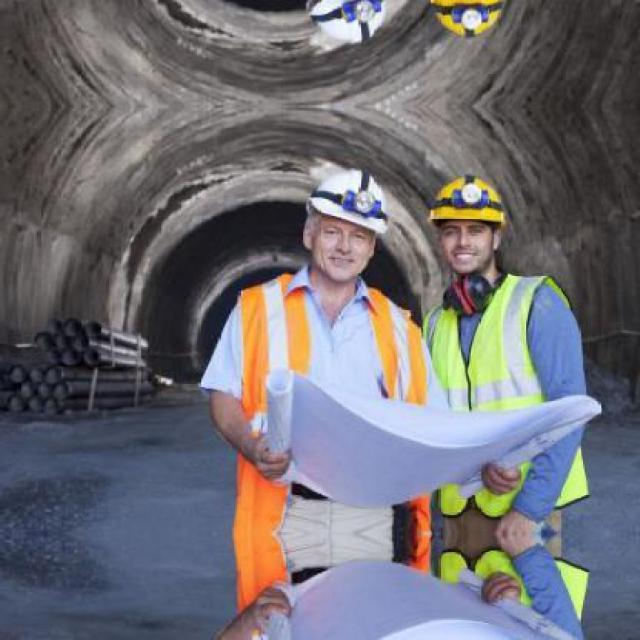Reflective-Jacket: (223, 267, 423, 515), (418, 270, 588, 518)
Safety-Helmet: (294, 160, 394, 240), (422, 167, 516, 234)
